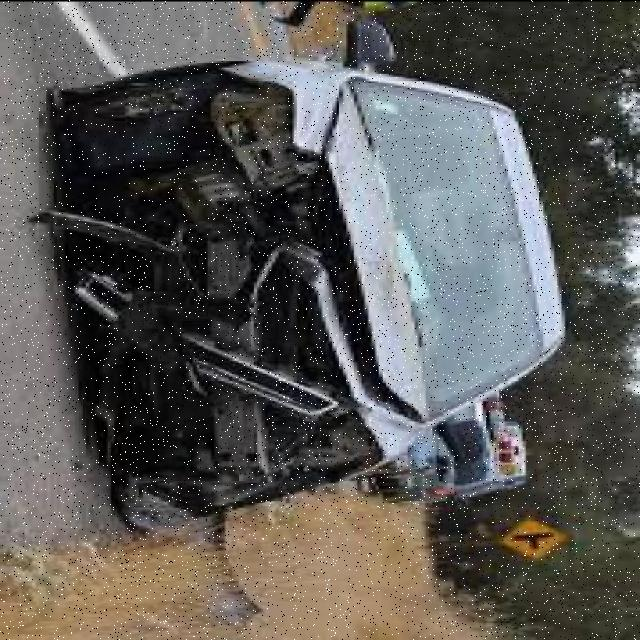damage: (33, 61, 415, 629)
